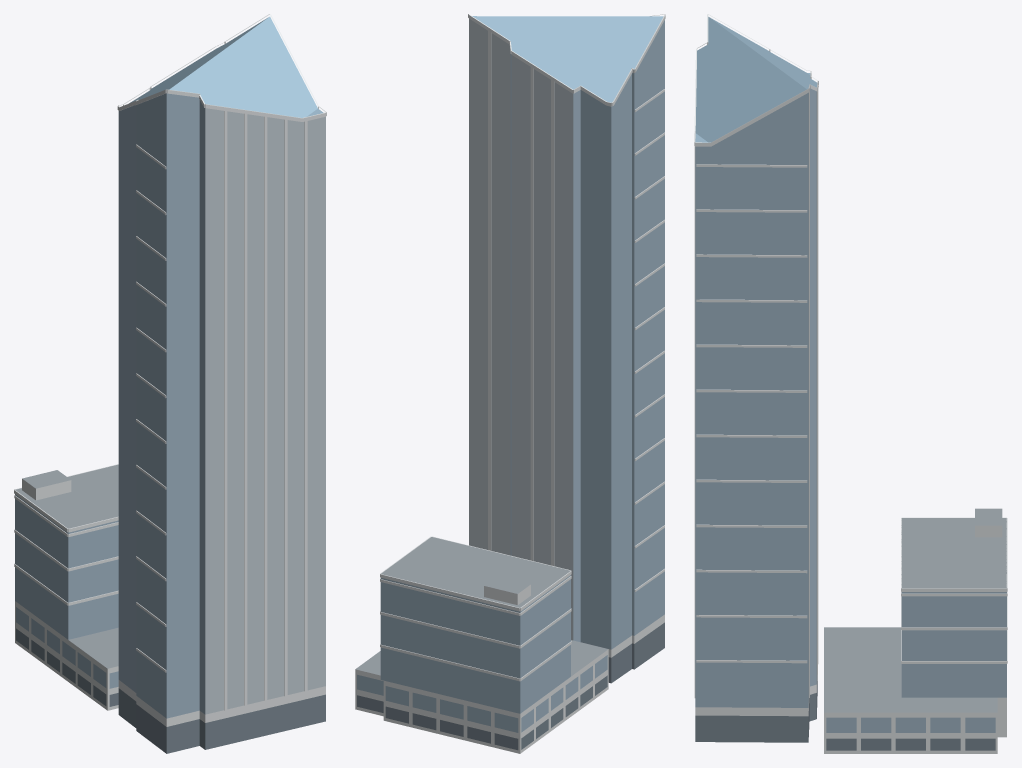
File: sf-millennium-tower.glb
The picture shows the model from 3 angles, left to right: view 1: azimuth 30°, elevation 25°; view 2: azimuth 150°, elevation 25°; view 3: azimuth 270°, elevation 25°; orthographic projection. The views are drawn at different scales.
Visible parts, largest first — view 1: Millennium Tower; view 2: Millennium Tower; view 3: Millennium Tower.
Boxes of the visible parts, box(x1,y1,x2,y2) form: Millennium Tower: box(14, 14, 326, 753); Millennium Tower: box(355, 14, 665, 753); Millennium Tower: box(694, 14, 1007, 753).
Size of the model in its own units: 55.59 by 198 by 85.8.
